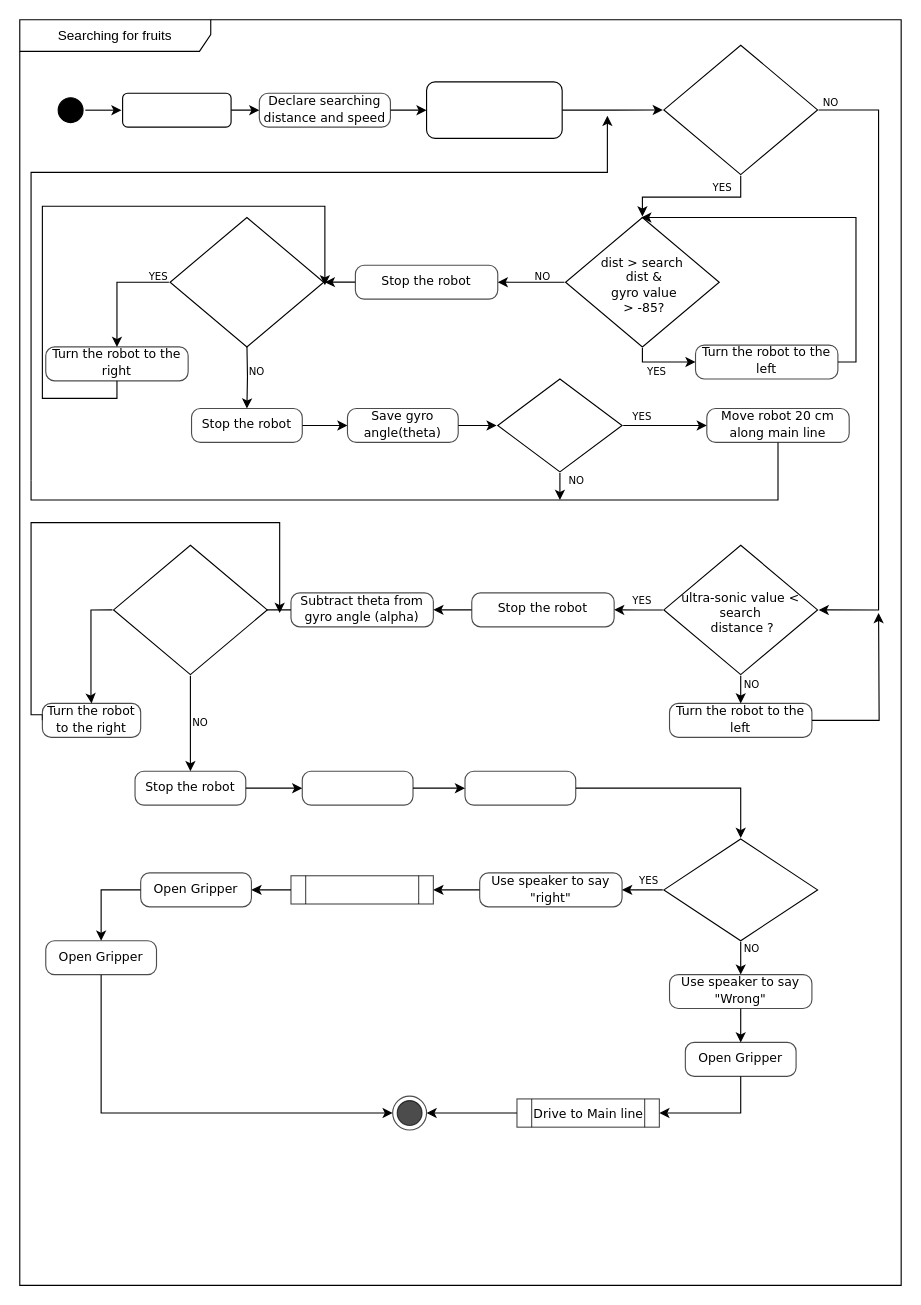
Image size: 921x1305. Some labels were removed from this diagram. Here are the shapes that lost their labels. From the top down, the centre of each, then its label:
At (176,109): "re-calibrate Gyro Sensor".
At (493,109): "Store value from Ultra-sonic sensor to dist variable".
At (740,109): "dist > search distance ?".
At (246,281): "dist > search dist & gyro value < -5?".
At (559,425): "dist > search dist ?".
At (189,609): "gyro value < theta + alpha/2 ?".
At (357,787): "Approach the object".
At (520,787): "Close Gripper".
At (361,889): "Drive to home zone".
At (740,889): "Object colour = desired colour ?".
